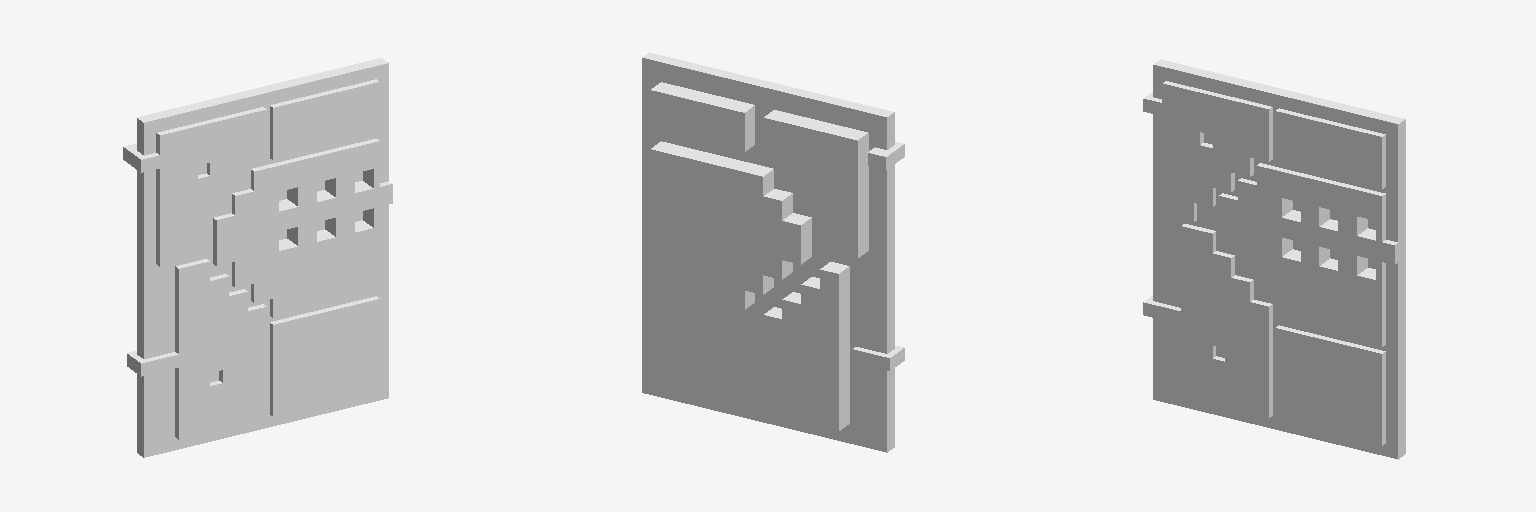
The model's file is 1metalDoor.obj.
3 views of the same model, side by side, from view 1: azimuth 30°, elevation 25°; view 2: azimuth 150°, elevation 25°; view 3: azimuth 330°, elevation 25° (orthographic).
Parts seen in each view (by area): view 1: object 1; view 2: object 1; view 3: object 1.
Part boxes in pixels (left/top/right/bottom): object 1: left=123, top=58, right=392, bottom=457; object 1: left=642, top=52, right=904, bottom=452; object 1: left=1143, top=59, right=1405, bottom=459.
Bounding box in the file's own units: 4 × 5.1 × 0.6.